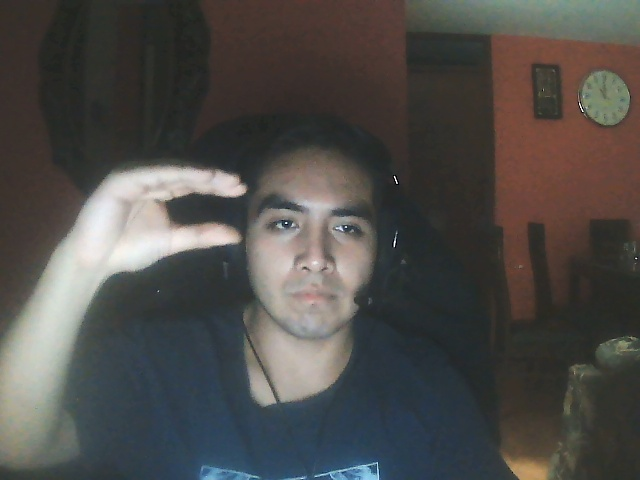no: (71, 155, 247, 280)
